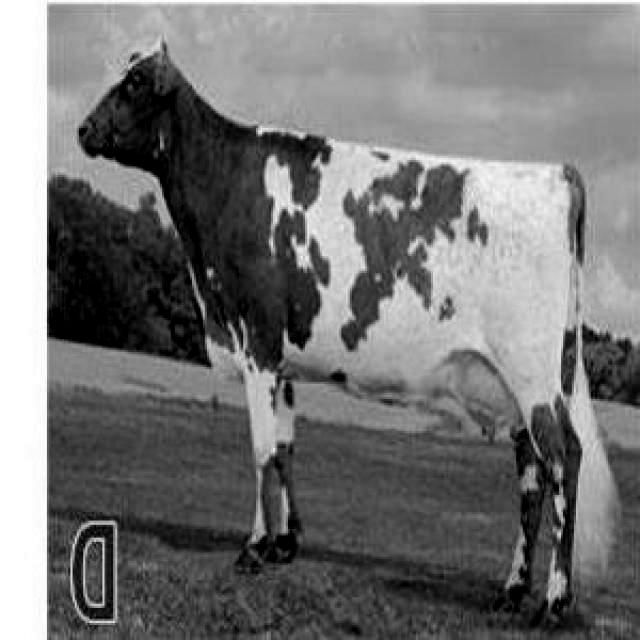COW: (75, 38, 612, 624)
